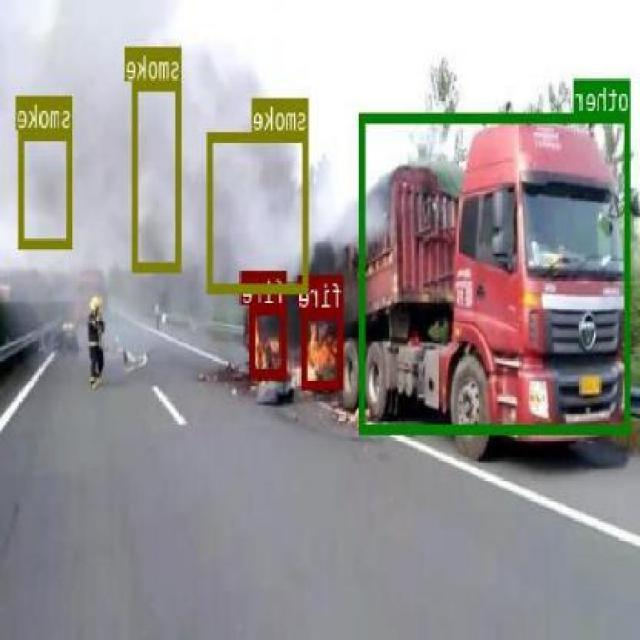Fire: (303, 309, 345, 386), (251, 304, 287, 378)
Smoke: (209, 130, 309, 292), (134, 79, 182, 270), (21, 129, 74, 246)
